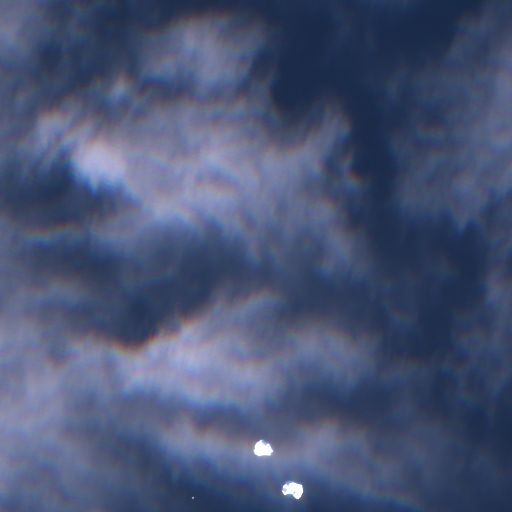Iceberg: (281, 480, 303, 499), (253, 439, 273, 455), (191, 496, 194, 499)
